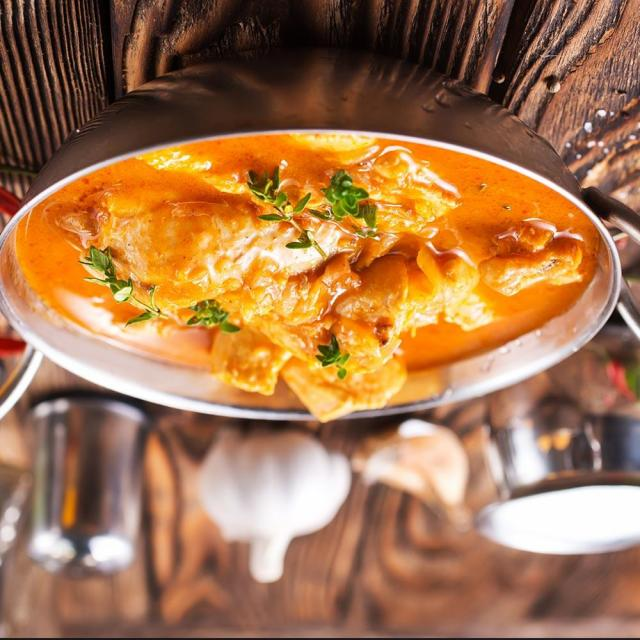chicken: (19, 134, 640, 412)
